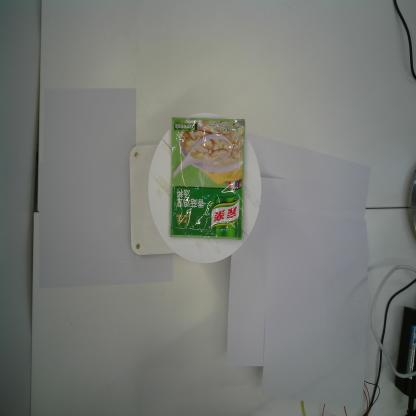Seasoner: (169, 116, 246, 241)
